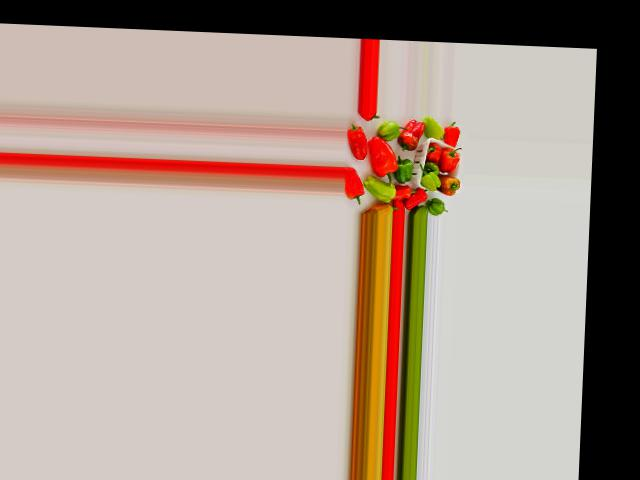bell_pepper: (343, 171, 367, 206)
